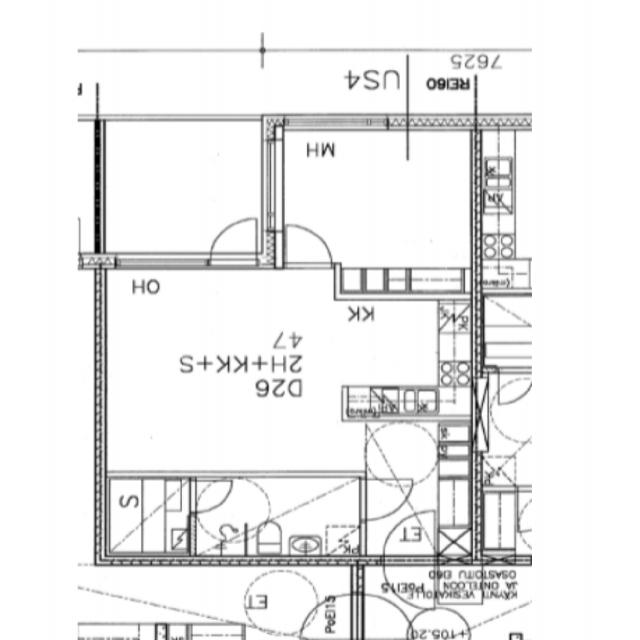door: (384, 554, 434, 608), (384, 511, 434, 564), (211, 213, 256, 268), (360, 479, 413, 520), (286, 223, 332, 268), (190, 480, 233, 512)
